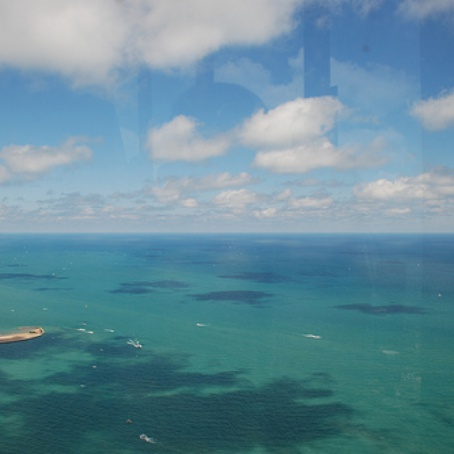sea: (4, 237, 454, 454)
sky: (7, 5, 454, 226)
